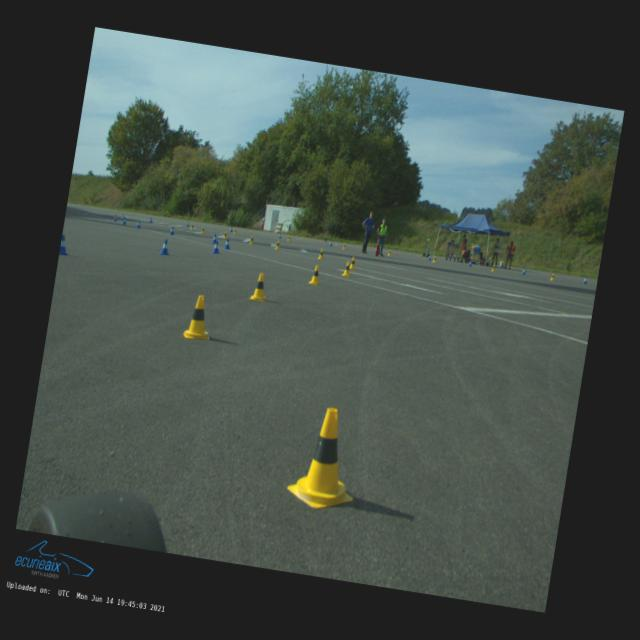blue_cone: (59, 234, 70, 255), (159, 238, 171, 256), (212, 240, 222, 254), (224, 238, 232, 250), (212, 234, 218, 244), (170, 227, 176, 236), (136, 220, 141, 228), (122, 217, 127, 224), (584, 277, 588, 284), (114, 215, 118, 222), (522, 268, 526, 275), (186, 221, 190, 227), (149, 218, 153, 224), (121, 215, 125, 221), (278, 232, 282, 238), (468, 261, 472, 267), (428, 255, 432, 260), (230, 226, 233, 232), (330, 240, 332, 246)
yellow_cone: (286, 403, 366, 514), (183, 294, 216, 342), (250, 272, 272, 303), (308, 264, 324, 286), (342, 260, 353, 278), (350, 256, 358, 270), (318, 248, 326, 260), (275, 240, 281, 250), (550, 272, 555, 282), (249, 236, 255, 244), (222, 232, 228, 240), (200, 226, 206, 234), (432, 255, 438, 262), (491, 264, 496, 272), (190, 223, 194, 231), (288, 235, 292, 241), (342, 244, 346, 250), (234, 228, 238, 234), (388, 250, 392, 256)
